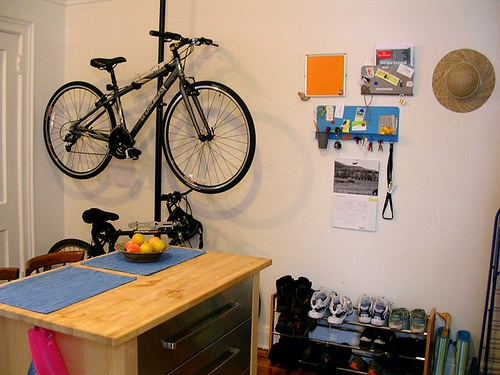non-vehicle: (43, 29, 256, 197), (39, 186, 205, 259)
